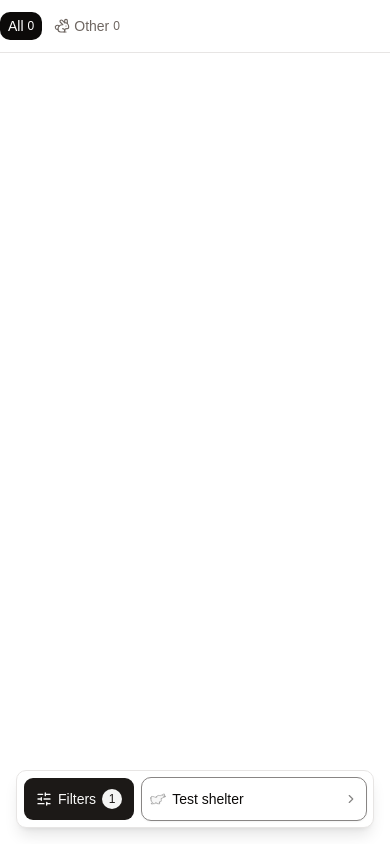
Scenario: mobile filter hardening › keeps the sheet mounted at zero results while a filter is on
Click the button with aria-label "Filters, 1 active". click: (79,799)
box: 23,777 -> 135,821
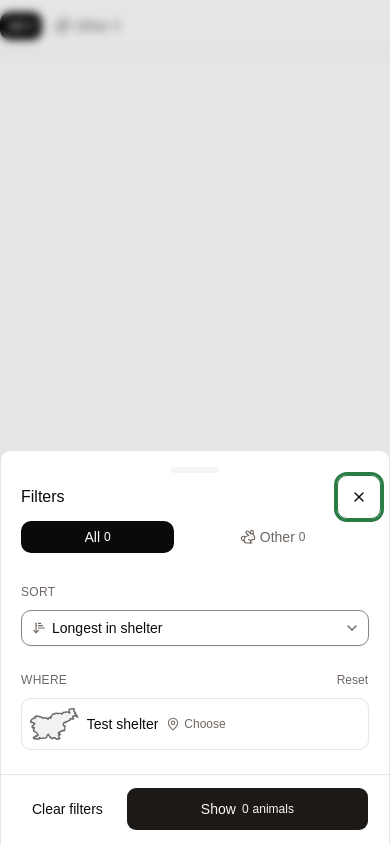
Now the dropdown is shown, box 21,610 -> 369,646
